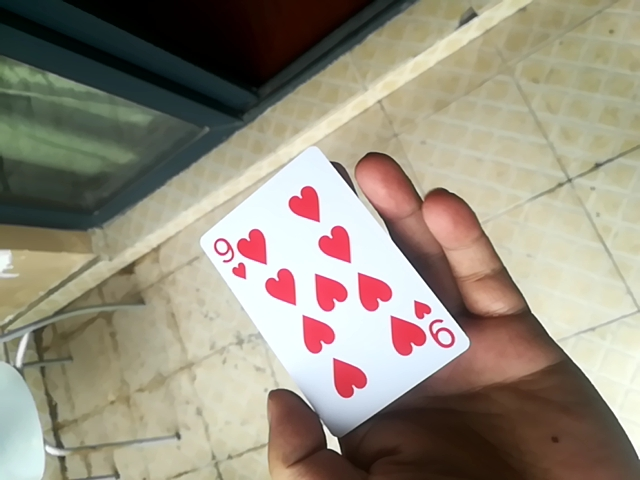hx 9: (199, 143, 469, 449)
